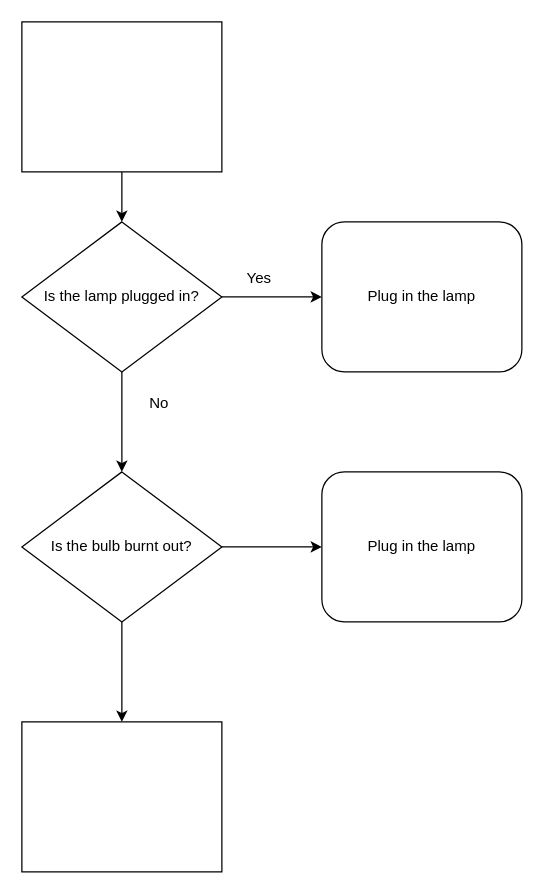
This 544x894 diagram has some shape labels left out. The shapes that lost their labels are listed below. From the top down, each one's centre as x and y in pixels, then its label:
At (121,96): "If the lamp doesn't work:".
At (121,796): "Repair the bulb.".
